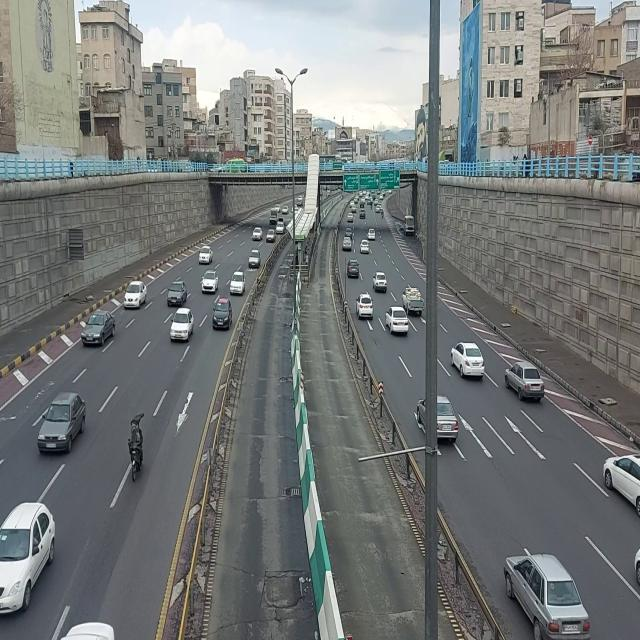Car: (504, 550, 592, 640), (0, 501, 57, 624), (38, 387, 90, 457), (600, 447, 640, 512), (416, 393, 460, 445), (505, 355, 547, 407), (81, 307, 119, 351), (449, 340, 487, 382), (384, 302, 412, 338), (171, 308, 195, 342), (212, 296, 234, 332), (124, 280, 148, 310), (167, 279, 188, 309), (355, 292, 373, 322), (201, 271, 219, 296), (229, 271, 247, 296), (248, 248, 263, 270), (198, 245, 214, 265), (346, 259, 360, 281), (373, 272, 387, 293), (251, 226, 263, 242), (266, 227, 276, 243), (360, 239, 370, 255), (343, 236, 353, 252), (275, 221, 285, 236), (368, 226, 377, 240), (345, 226, 354, 237), (347, 212, 355, 224), (359, 208, 367, 220), (282, 205, 290, 215), (375, 205, 381, 214), (351, 205, 357, 213)
Motorcycle: (126, 411, 148, 485), (360, 201, 365, 209), (381, 209, 384, 221), (370, 200, 372, 209)
Pickup: (402, 287, 424, 315), (268, 207, 278, 227)
